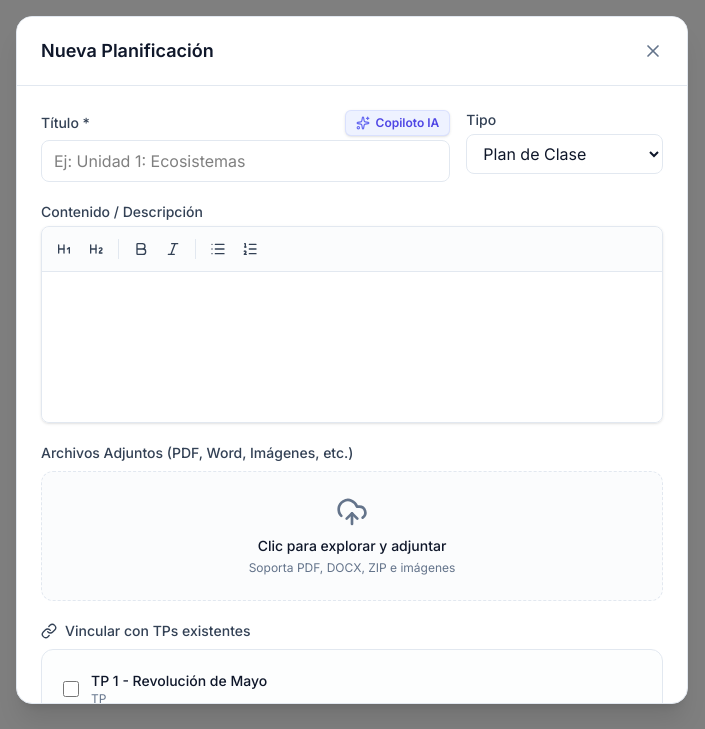
Test case: LessonPlanForm › disables submit button while loading
In the field with placeholder "Ej: Unidad 1: Ecosistemas": (246,161) [41,140,450,182], type "Nueva Planificación"
(page scrolled)
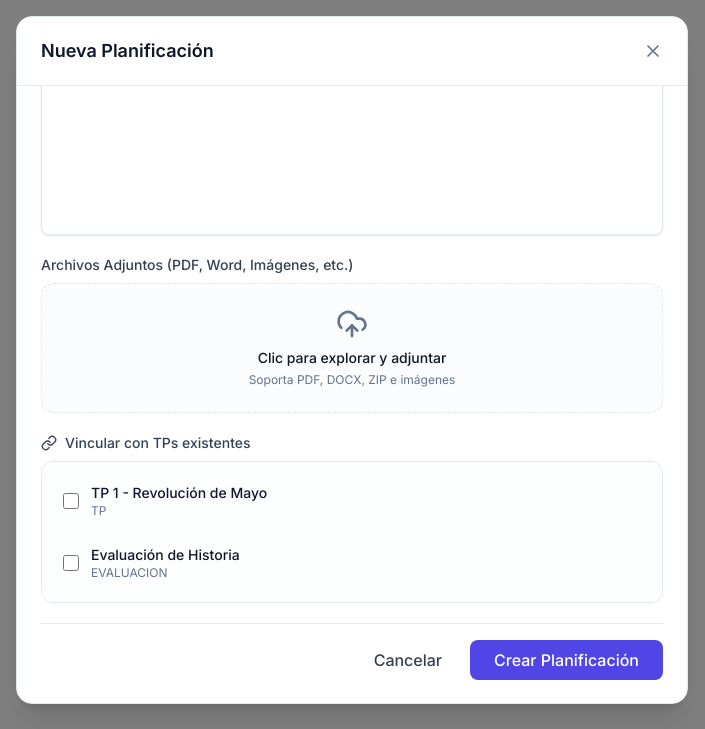
Click the button "Crear Planificación": (567,660) [470,640,663,680]
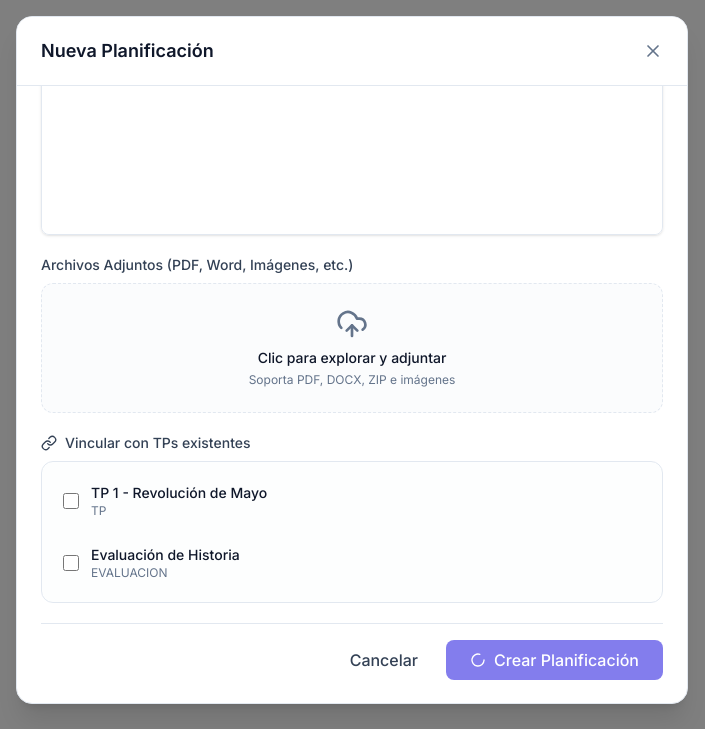
expect the button "Crear Planificación" is disabled: met, box [446,640,663,680]
